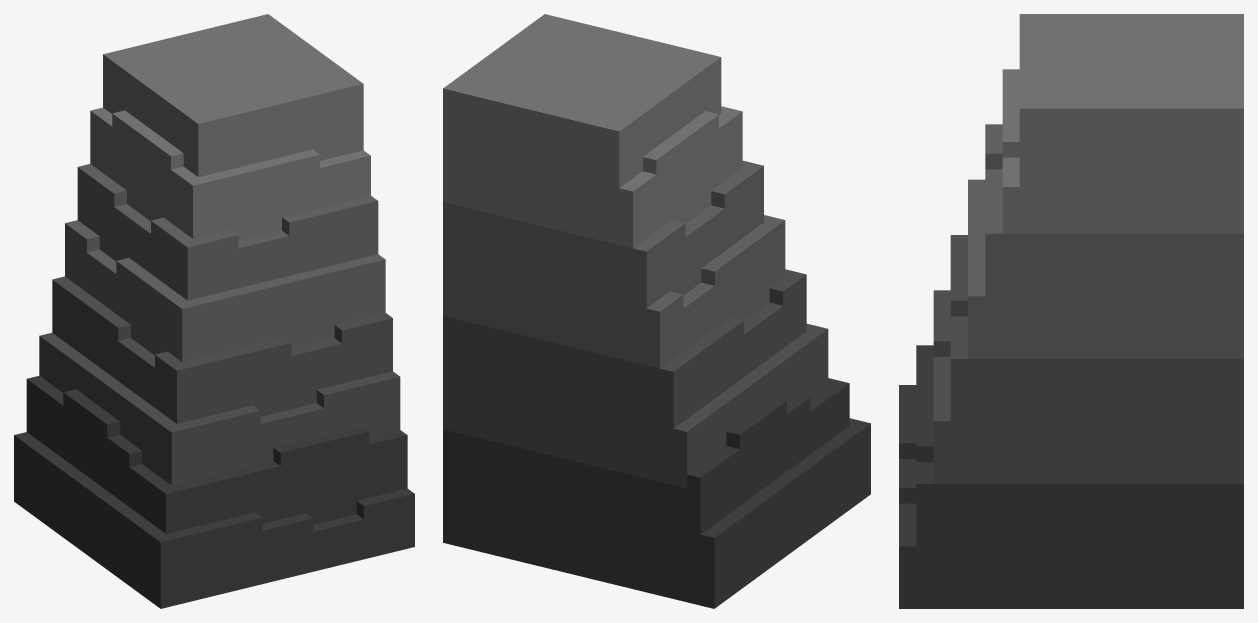
File: mountain-edge-outer-3.gltf
3 renders of one model, left to right at view 1: azimuth 30°, elevation 25°; view 2: azimuth 150°, elevation 25°; view 3: azimuth 270°, elevation 25°, orthographic. The views are drawn at different scales.
Visible parts, largest first — view 1: mountain-edge-outer-3; view 2: mountain-edge-outer-3; view 3: mountain-edge-outer-3.
Part boxes in pixels (x1,y1,x2,y2): mountain-edge-outer-3: (14, 14, 414, 608); mountain-edge-outer-3: (443, 14, 870, 608); mountain-edge-outer-3: (899, 14, 1243, 608).
Bounding box in the file's own units: 2 × 3.2 × 2.
1 material, 1 textured.
